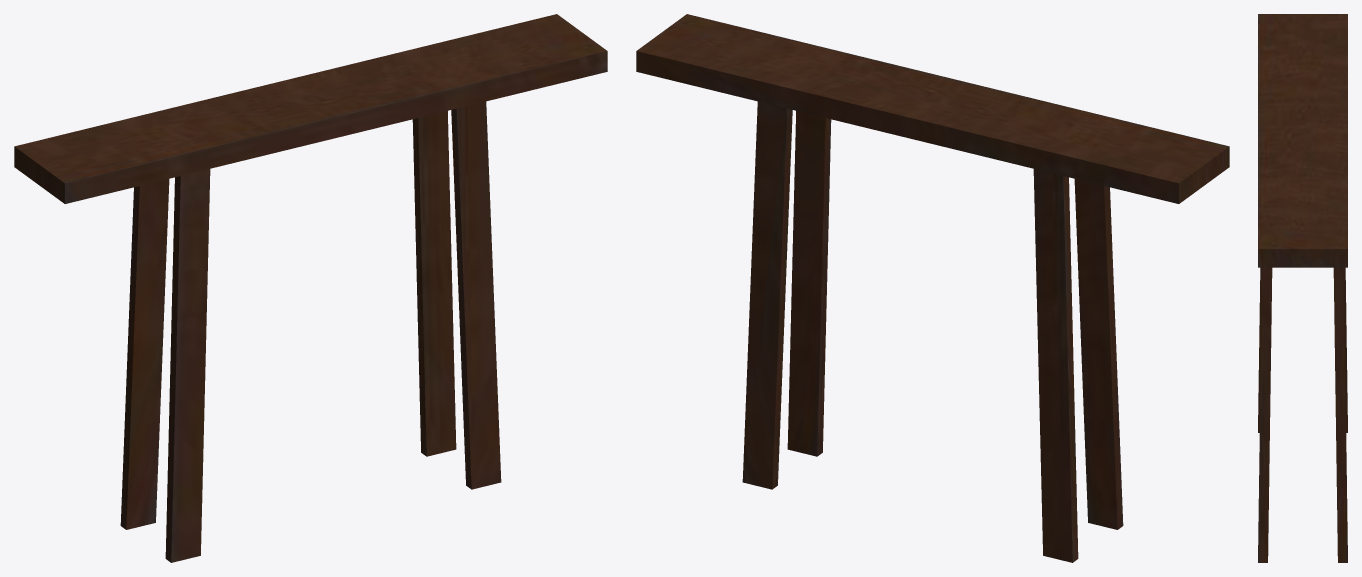
Rendered from table_3.glb.
3 renders of one model, left to right at view 1: azimuth 30°, elevation 25°; view 2: azimuth 150°, elevation 25°; view 3: azimuth 270°, elevation 25°, orthographic. The views are drawn at different scales.
Parts seen in each view (by area): view 1: table_3; view 2: table_3; view 3: table_3.
Boxes of the visible parts, x1=… form: table_3: x1=14, y1=14, x2=607, y2=562; table_3: x1=636, y1=14, x2=1229, y2=562; table_3: x1=1258, y1=14, x2=1347, y2=562.
Bounding box in the file's own units: 2.08 × 1.49 × 0.3362.
Materials: 1 (1 with a texture image).
